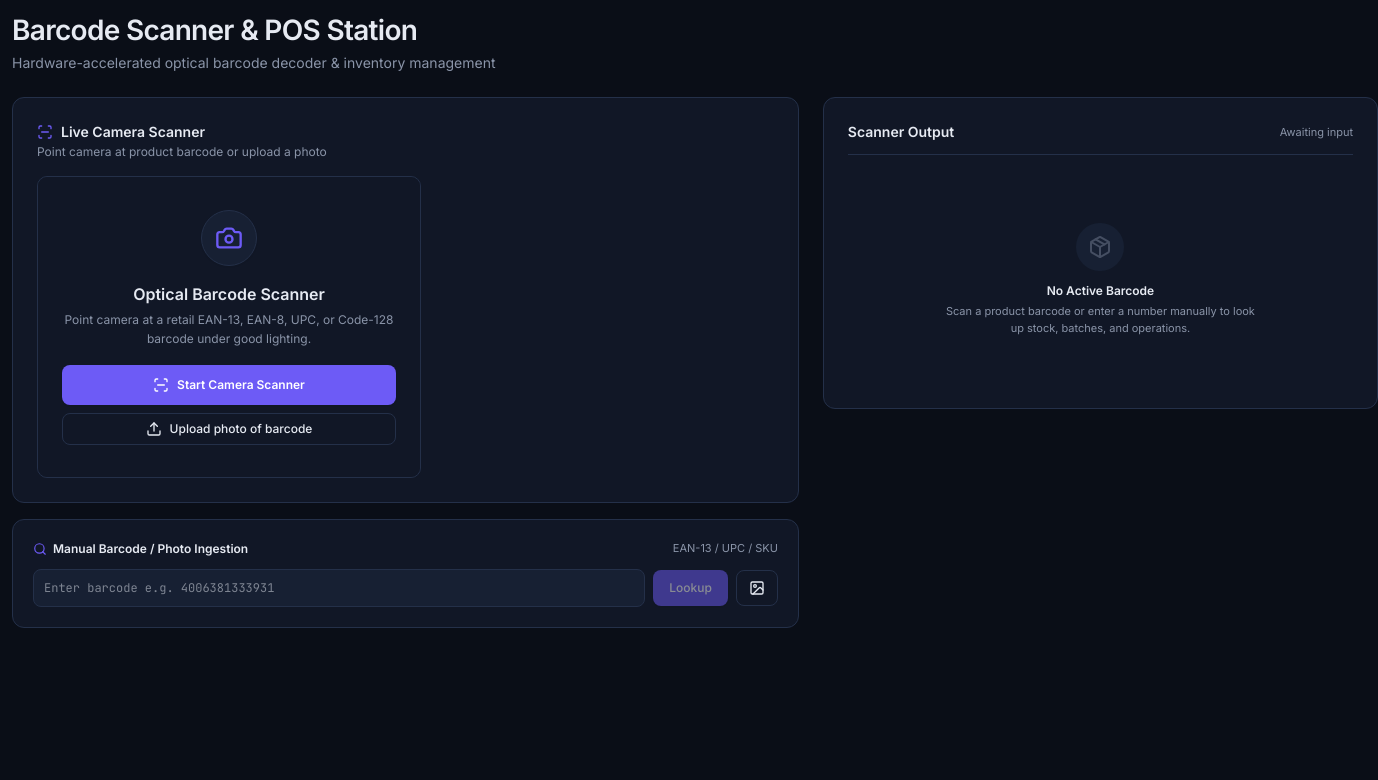
Scenario: BusinessScanPage Camera Scanner Lifecycle & Diagnostics › mocks a rejected start() with NotAllowedError and asserts permission blocked error message, retry button, and link
This screenshot has width=1378, height=780.
Click the button "Start Camera Scanner".
click(229, 385)  # box [62, 365, 396, 405]
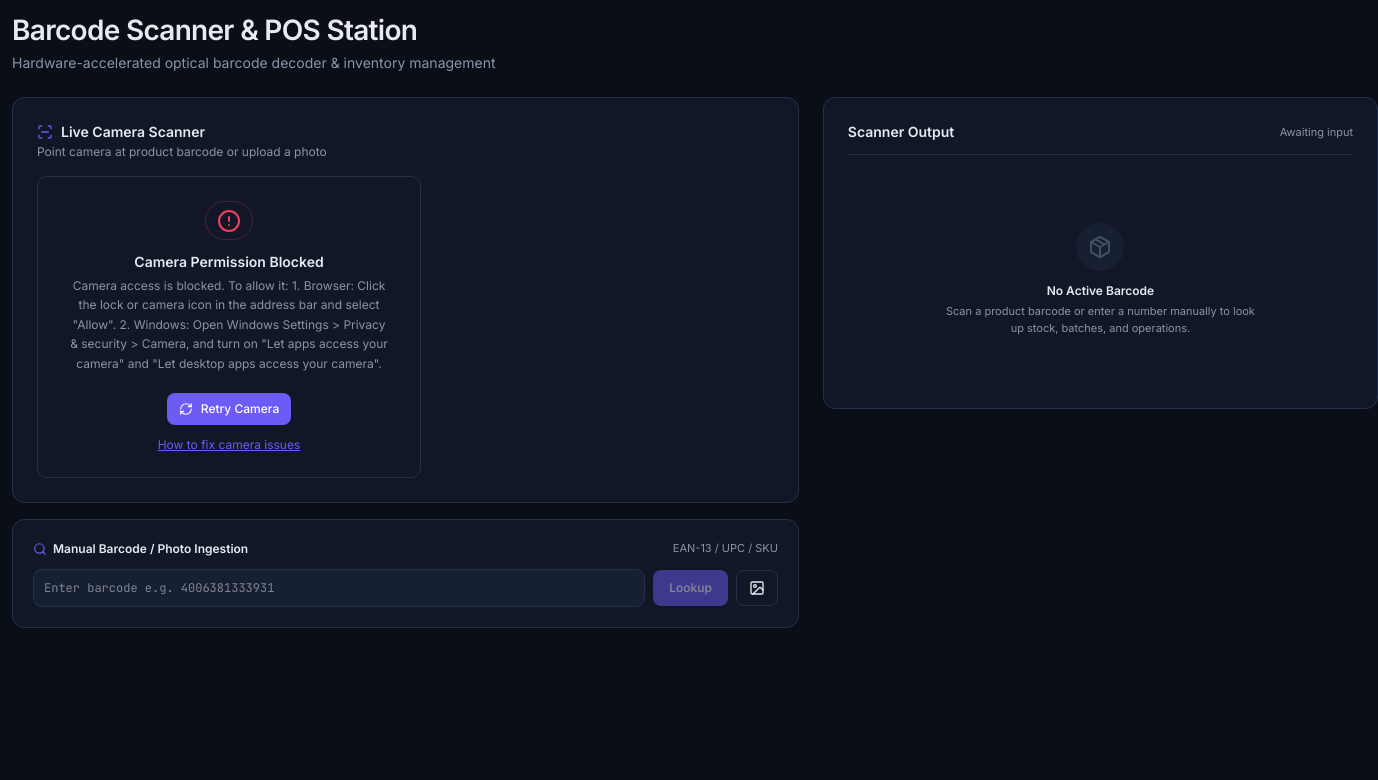
Now the heading "Camera Permission Blocked" is shown, box [134, 253, 324, 270]
Now the text "windows: open windows settings > privacy & security > camera" is shown, box [70, 278, 388, 371]
Now the button "Retry Camera" is shown, box [167, 393, 291, 425]
